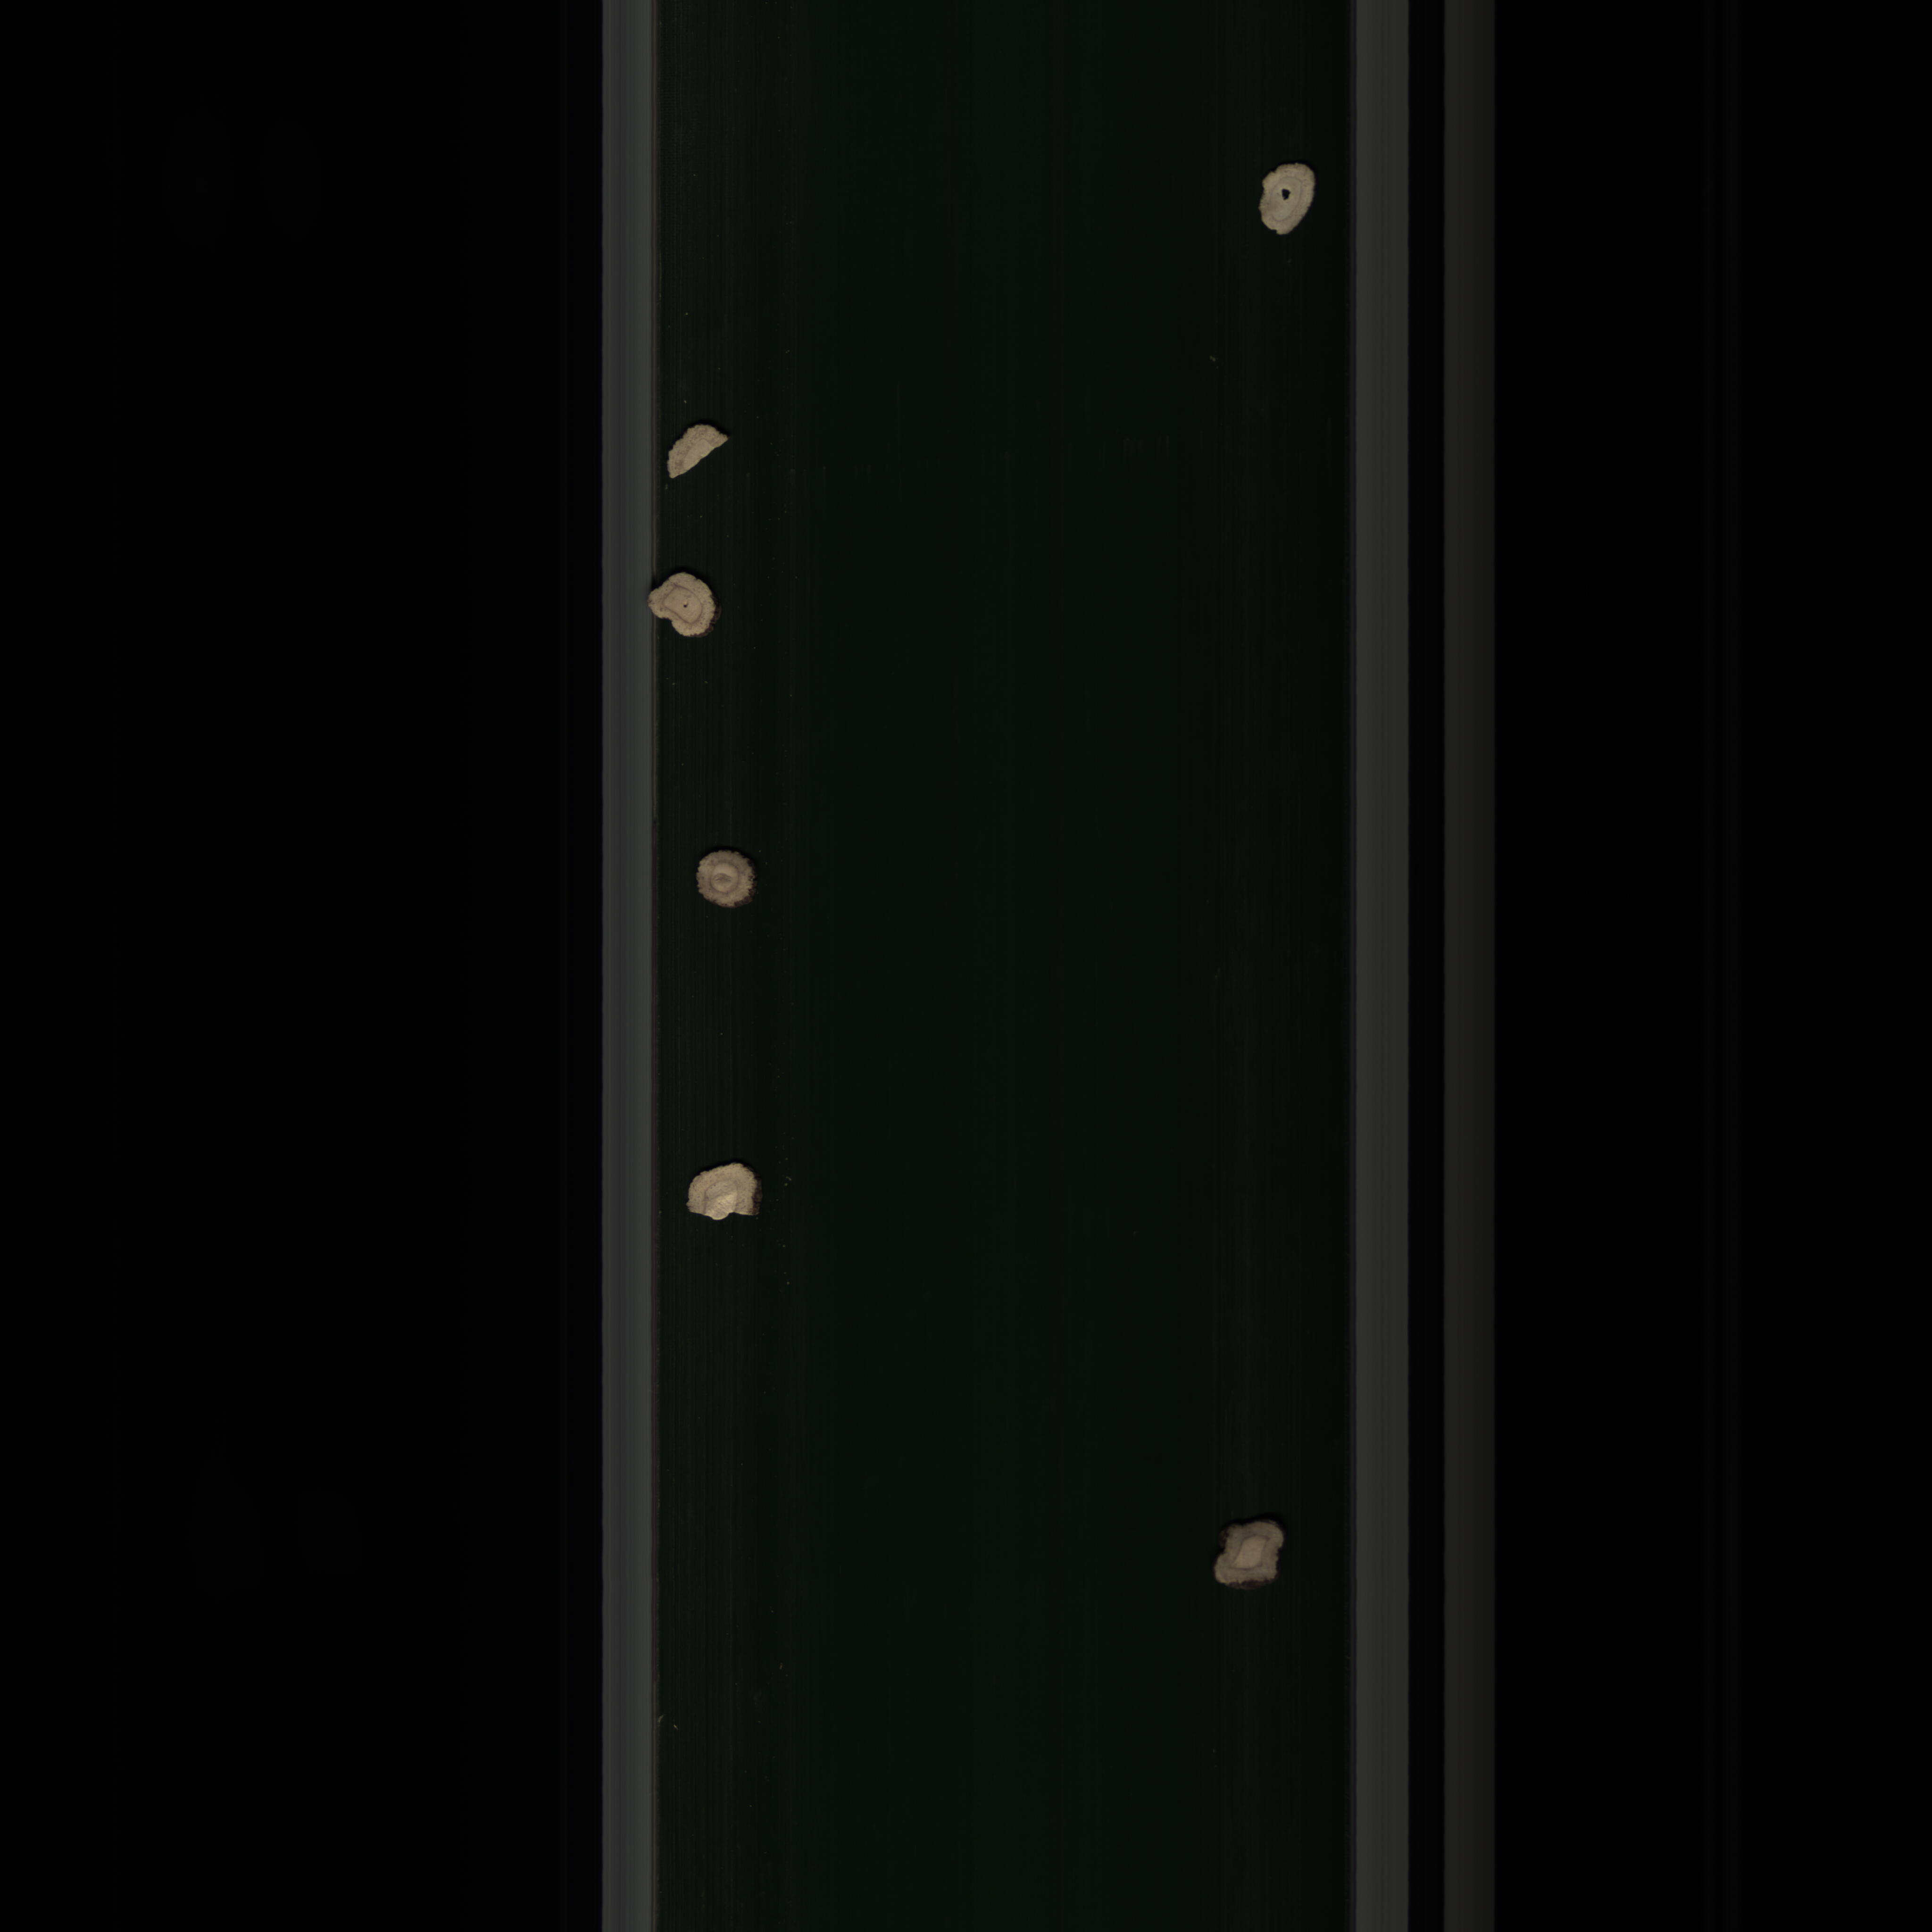debris: (678, 1152, 778, 1235), (651, 419, 745, 487)
distortion: (640, 571, 727, 656)
hole: (1247, 152, 1322, 251)
moldy: (1208, 1514, 1309, 1601), (690, 844, 763, 920)
